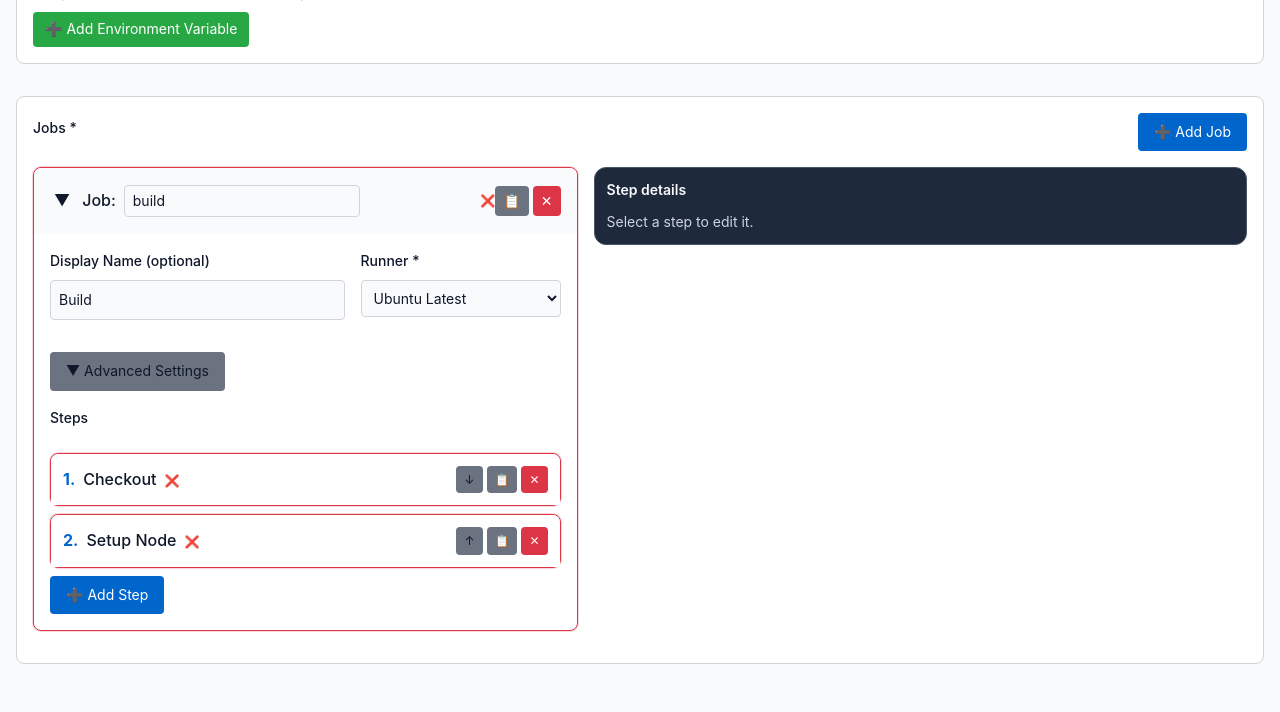
GUIWorkflowEditor step detail panel › opens the selected step in the panel and marks its row current
(page scrolled)
Click the button "1. Checkout": (110, 480) left=63, top=467, right=157, bottom=493
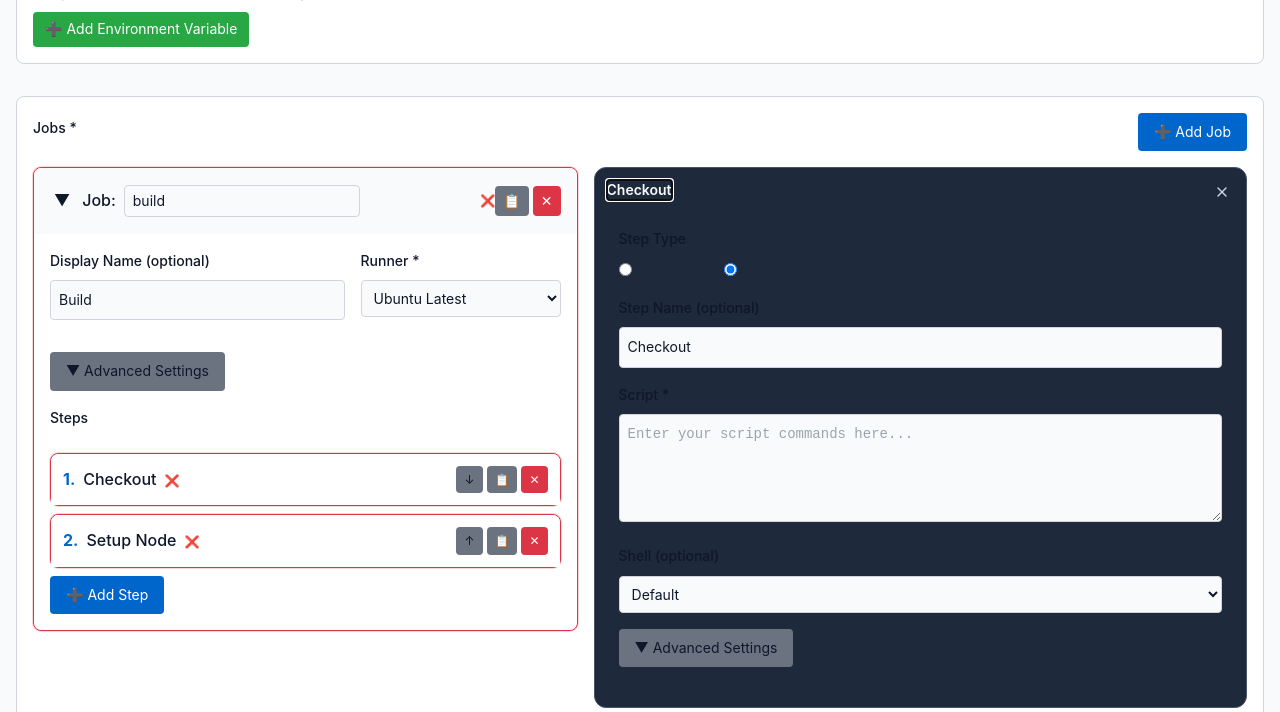
Result: the element that starts with "Checkout" is shown at left=606, top=181, right=672, bottom=198
